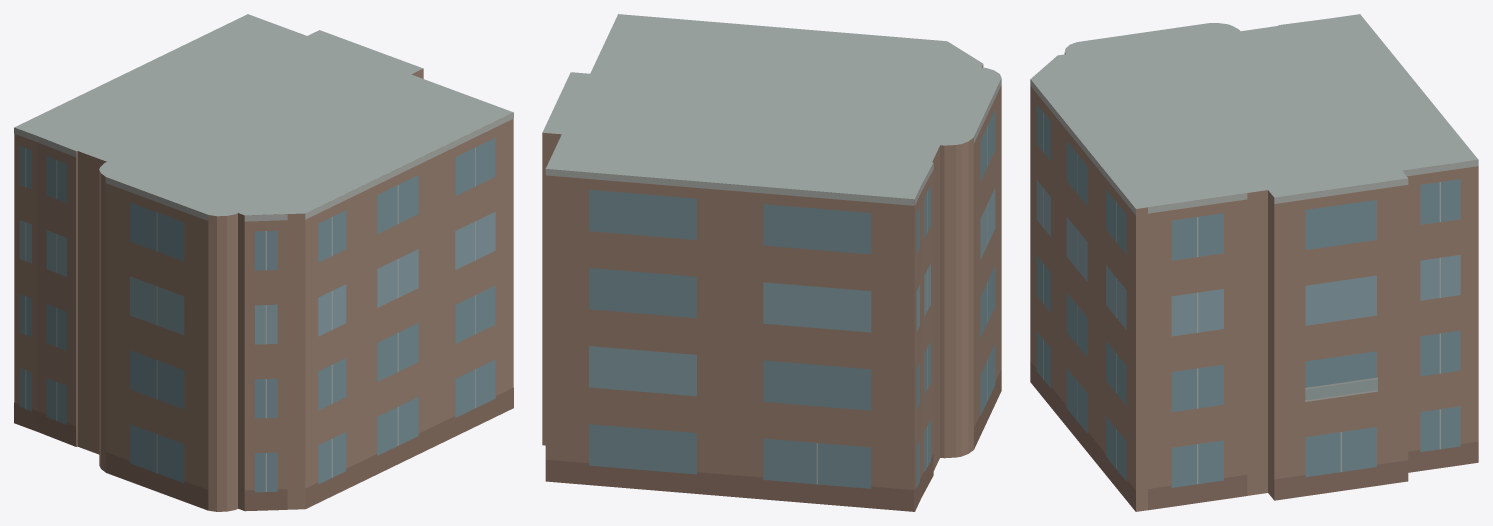
File: survey-upis-33043722.glb
3 renders of one model, left to right at view 1: azimuth 30°, elevation 25°; view 2: azimuth 150°, elevation 25°; view 3: azimuth 270°, elevation 25°, orthographic. The views are drawn at different scales.
Parts seen in each view (by area): view 1: survey-upis-33043722.tmp; view 2: survey-upis-33043722.tmp; view 3: survey-upis-33043722.tmp.
Boxes of the visible parts, box(x1,y1,x2,y2) form: survey-upis-33043722.tmp: box(14, 14, 513, 511); survey-upis-33043722.tmp: box(542, 14, 1001, 511); survey-upis-33043722.tmp: box(1030, 14, 1478, 511).
Size of the model in its own units: 16.02 by 11.6 by 15.56.
